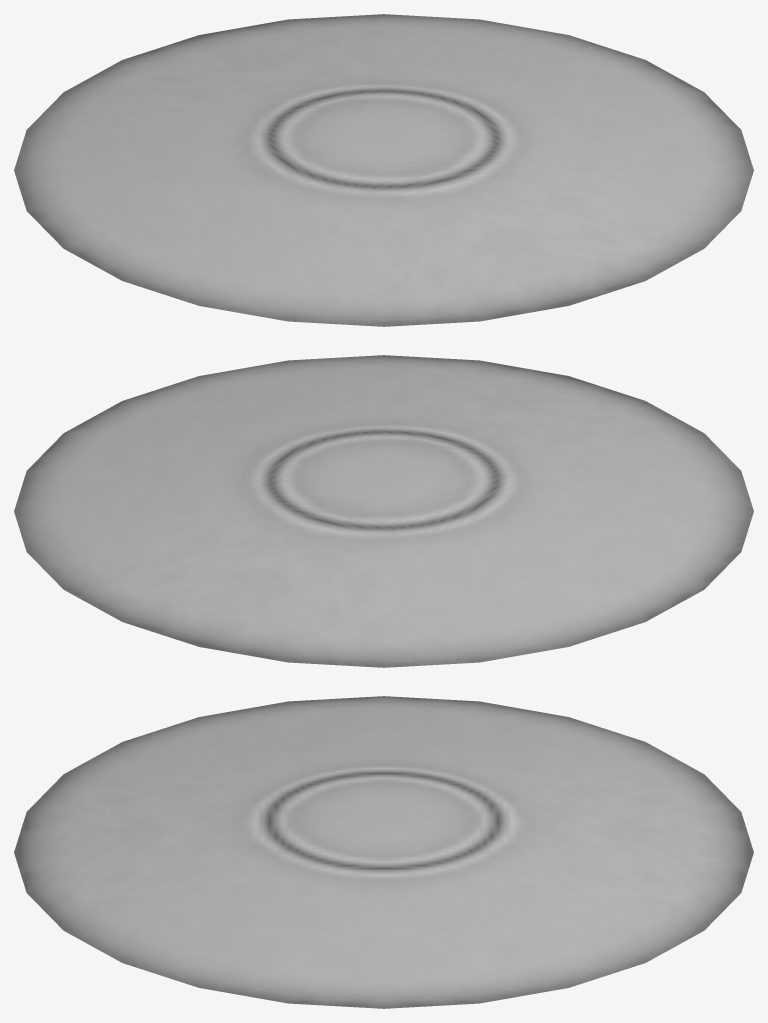
Rendered from Auriga_Parachute_1_Cap.obj.
3 views of the same model, one above another, from view 1: azimuth 30°, elevation 25°; view 2: azimuth 150°, elevation 25°; view 3: azimuth 270°, elevation 25° (orthographic).
Parts seen in each view (by area): view 1: Auriga_Parachute_1_Cap; view 2: Auriga_Parachute_1_Cap; view 3: Auriga_Parachute_1_Cap.
Part boxes in pixels (left/top/right/bottom): Auriga_Parachute_1_Cap: left=14, top=14, right=753, bottom=326; Auriga_Parachute_1_Cap: left=14, top=355, right=753, bottom=667; Auriga_Parachute_1_Cap: left=14, top=696, right=753, bottom=1008.
Bounding box in the file's own units: 0.5625 × 0.0312 × 0.5625.
